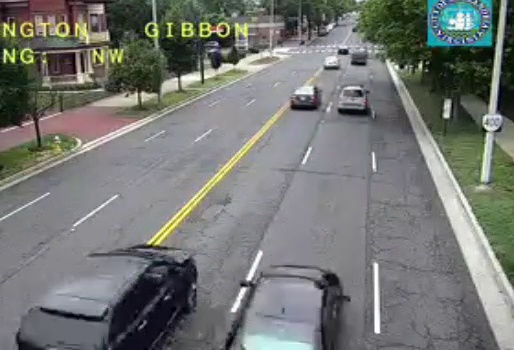car: (17, 245, 197, 350), (223, 266, 342, 350), (337, 86, 367, 111), (290, 86, 320, 109)
